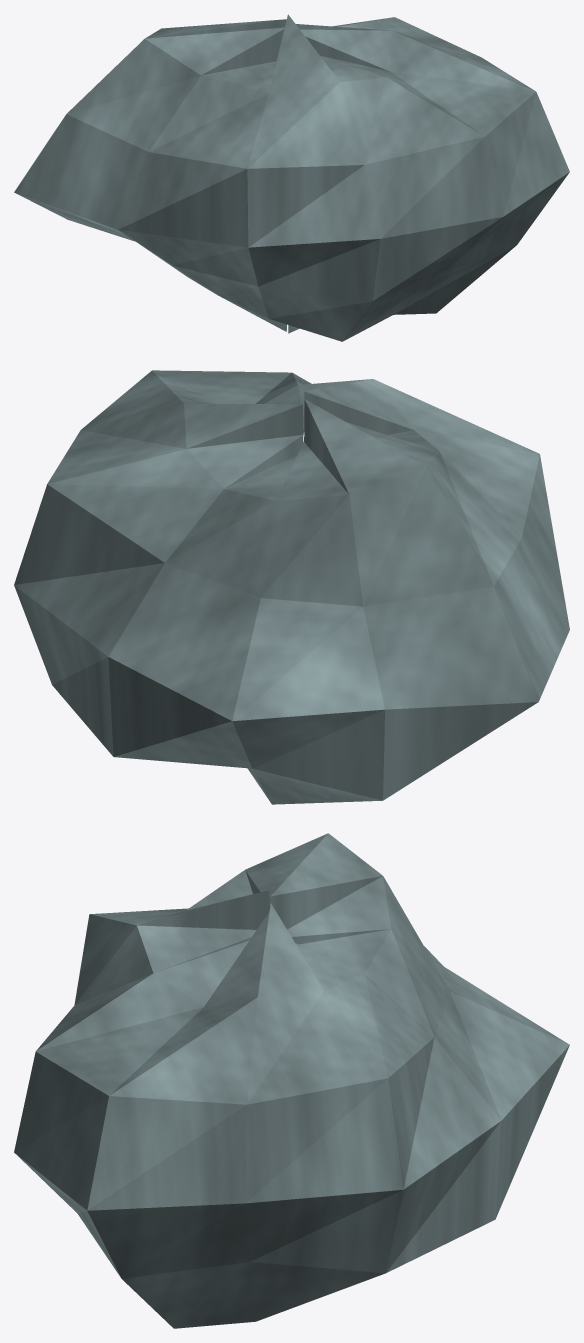
File: roadside_rock_02.glb
3 renders of one model, top to bottom at view 1: azimuth 30°, elevation 25°; view 2: azimuth 150°, elevation 25°; view 3: azimuth 270°, elevation 25°, orthographic. The views are drawn at different scales.
Parts seen in each view (by area): view 1: rock; view 2: rock; view 3: rock.
Boxes of the visible parts, box(x1,y1,x2,y2) form: rock: box(14, 14, 569, 341); rock: box(14, 370, 569, 804); rock: box(14, 833, 569, 1328).
Size of the model in its own units: 2.7 by 1.89 by 2.38.
1 material, 1 textured.
